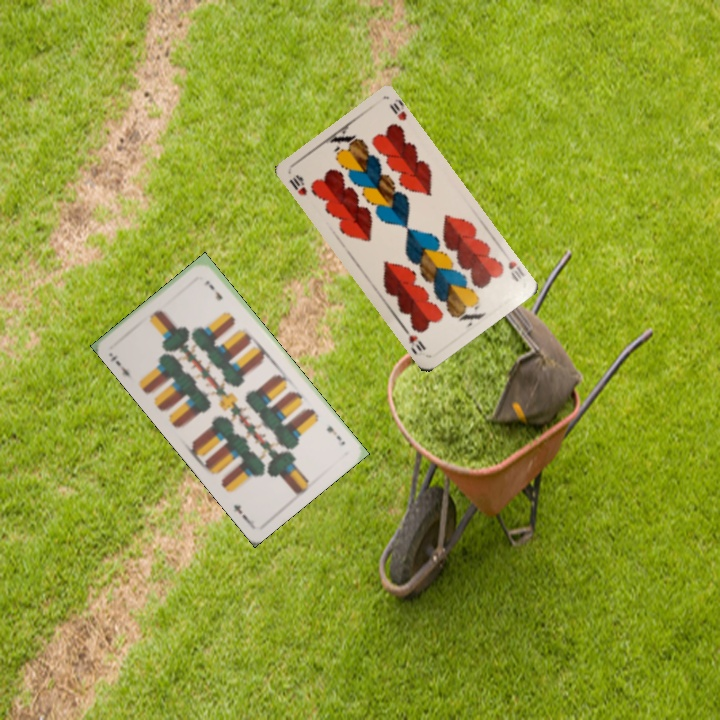E7: (106, 351, 136, 382), (322, 422, 348, 449)
H10: (285, 170, 310, 198), (504, 257, 527, 284)
